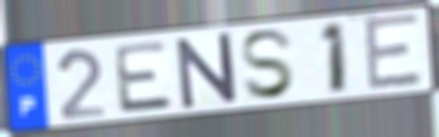1: (318, 20, 353, 96)
2: (54, 47, 110, 122)
E: (360, 11, 425, 95), (111, 38, 177, 116)
N: (173, 30, 241, 112)
S: (237, 27, 298, 102)
